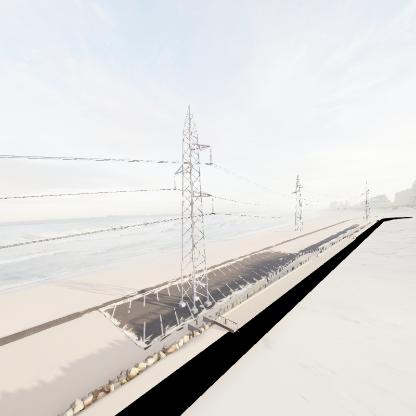tower: (168, 107, 222, 318)
